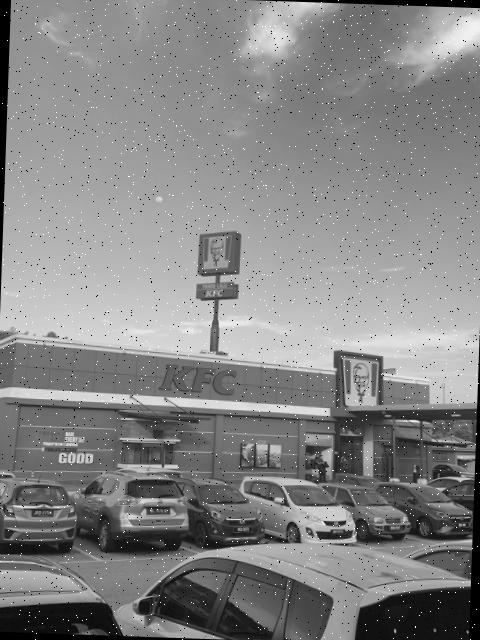License_Plate: (145, 504, 172, 518), (231, 522, 257, 536), (385, 522, 410, 536), (325, 527, 354, 538), (31, 507, 54, 520)
